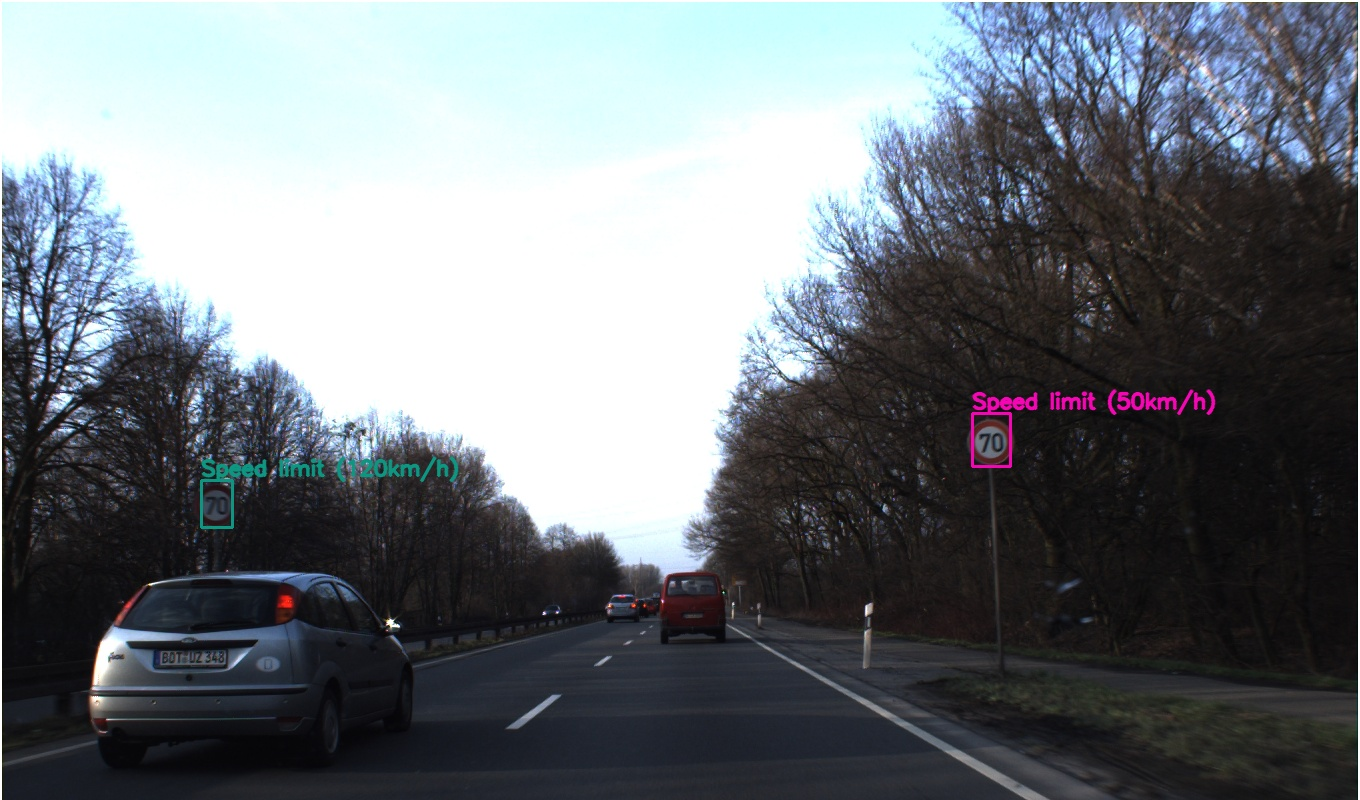End of speed limit (80km/h): (1227, 364, 1272, 411), (98, 417, 142, 463)
